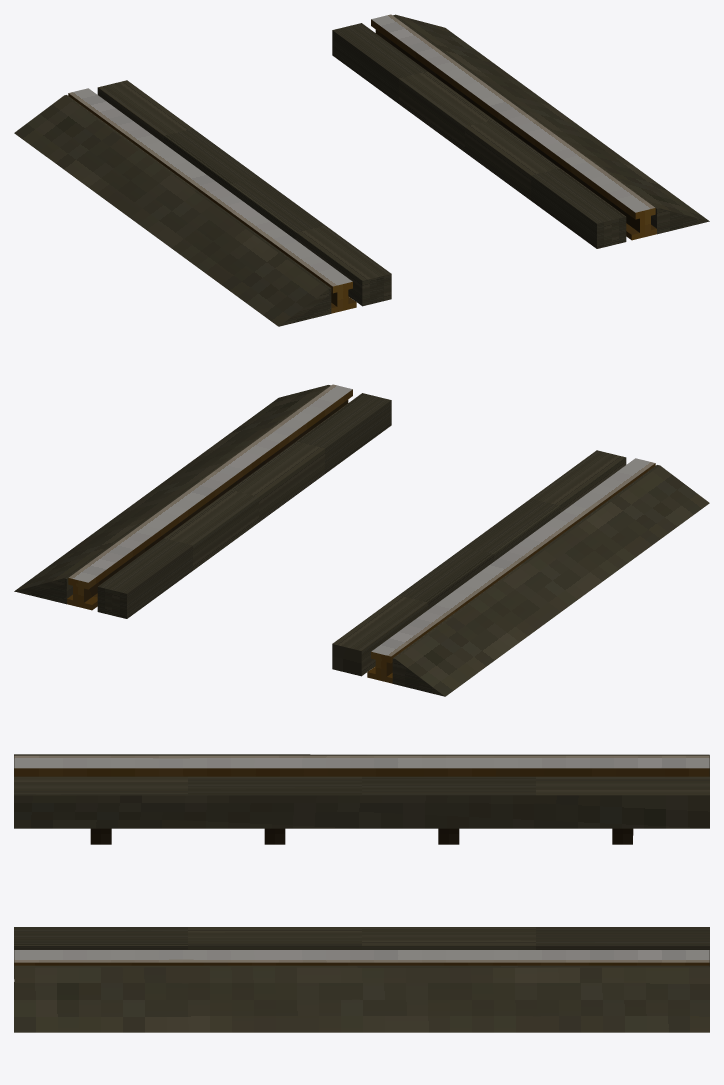
File: track_roadcrossing_base.obj
3 renders of one model, top to bottom at view 1: azimuth 30°, elevation 25°; view 2: azimuth 150°, elevation 25°; view 3: azimuth 270°, elevation 25°, orthographic. The views are drawn at different scales.
Parts seen in each view (by area): view 1: Track_roadcrossing; view 2: Track_roadcrossing; view 3: Track_roadcrossing.
Boxes of the visible parts, left/top/right/bottom form: Track_roadcrossing: left=14, top=14, right=709, bottom=326; Track_roadcrossing: left=14, top=384, right=709, bottom=696; Track_roadcrossing: left=14, top=754, right=709, bottom=1032.
Size of the model in its own units: 0.9419 by 0.1162 by 1.
